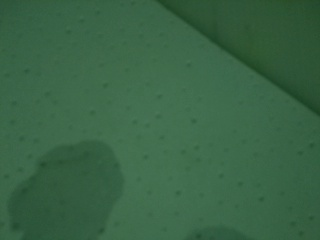Water_detected: (27, 153, 107, 236)
